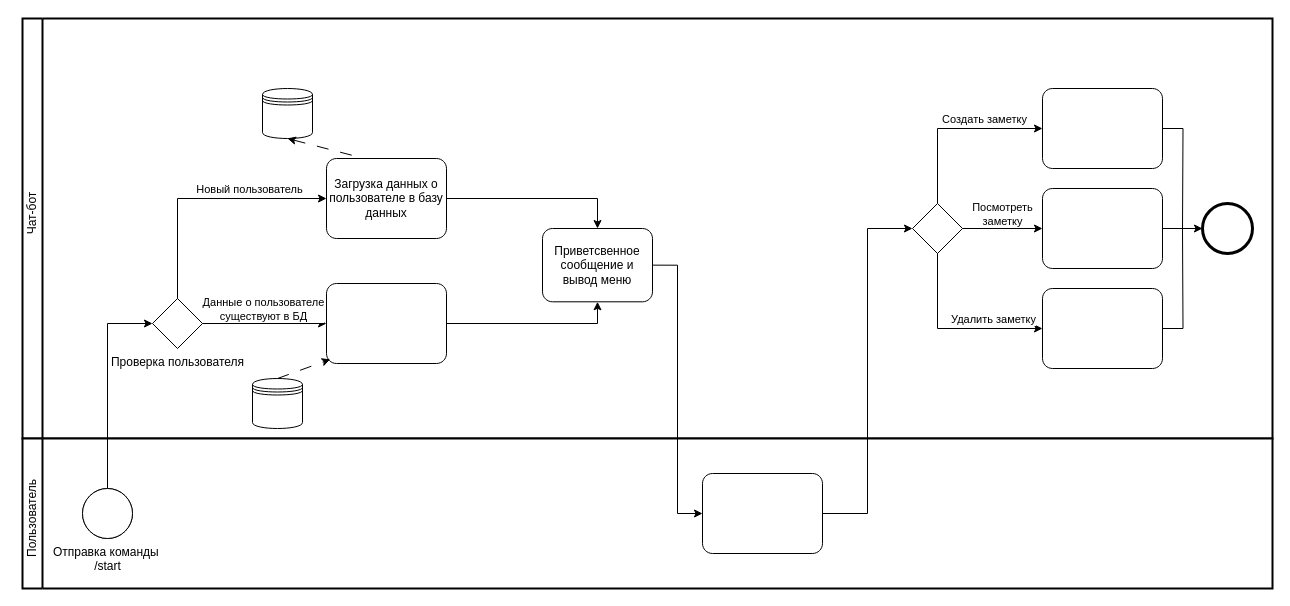
This 1290x606 diagram has some shape labels left out. The shapes that lost their labels are listed below. From the top down, each one's centre as x and y in pixels, then its label:
At [386,323]: "Использование имеющихся данных о пользователе".
At [762,513]: "Выбор пункта меню".
